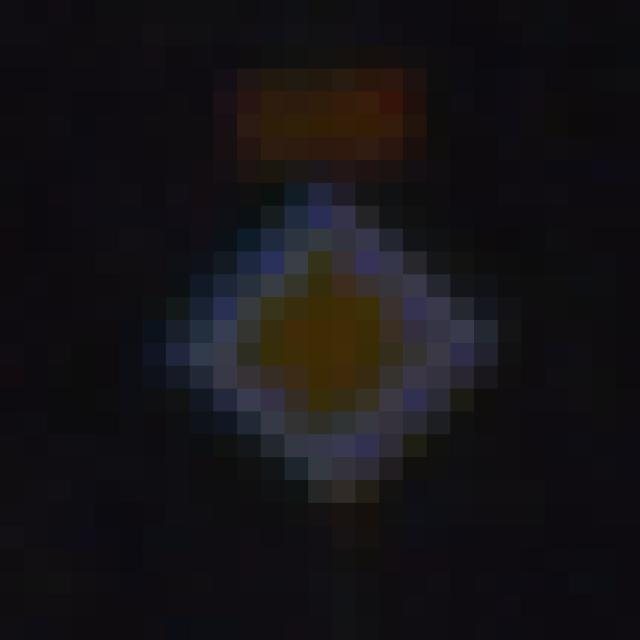Main Road: (143, 138, 523, 527)
